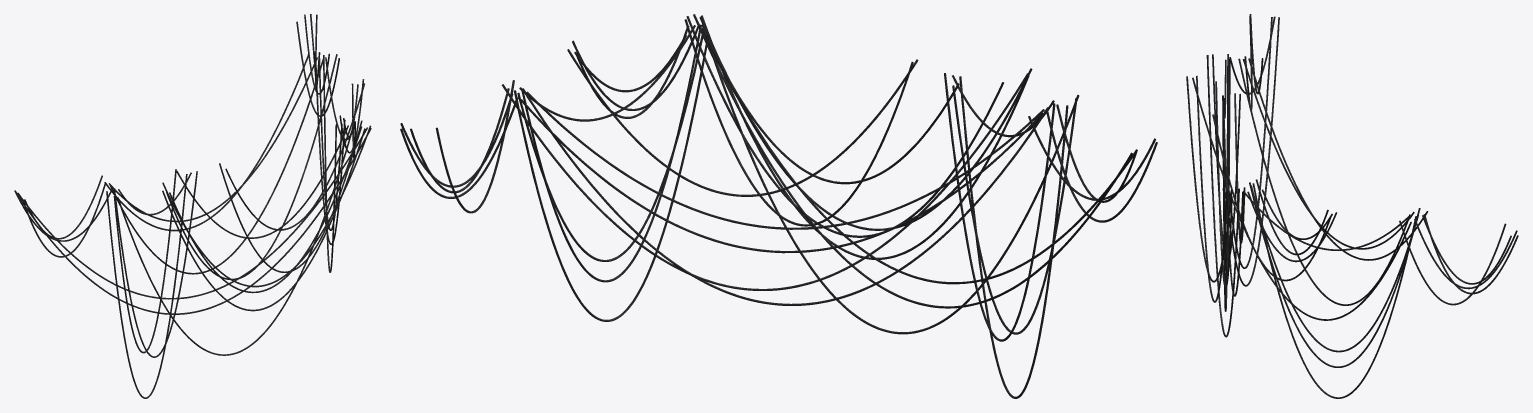
File: cables_techo.glb
The picture shows the model from 3 angles, left to right: view 1: azimuth 30°, elevation 25°; view 2: azimuth 150°, elevation 25°; view 3: azimuth 270°, elevation 25°; orthographic projection. The views are drawn at different scales.
Parts seen in each view (by area): view 1: Wires; view 2: Wires; view 3: Wires.
Part boxes in pixels (left/top/right/bottom): Wires: left=14, top=14, right=371, bottom=398; Wires: left=400, top=14, right=1157, bottom=398; Wires: left=1186, top=14, right=1518, bottom=398.
Size of the model in its own units: 0.2008 by 0.1031 by 0.1277.
1 material, 1 textured.
